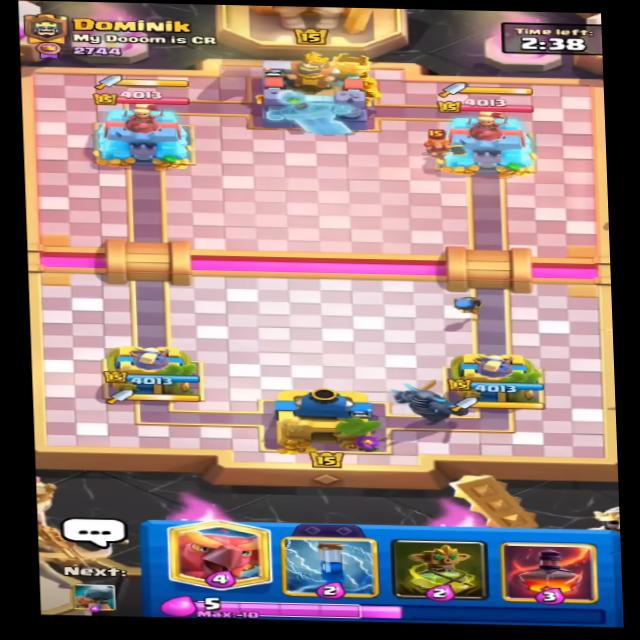Valk: (409, 129, 469, 161)
